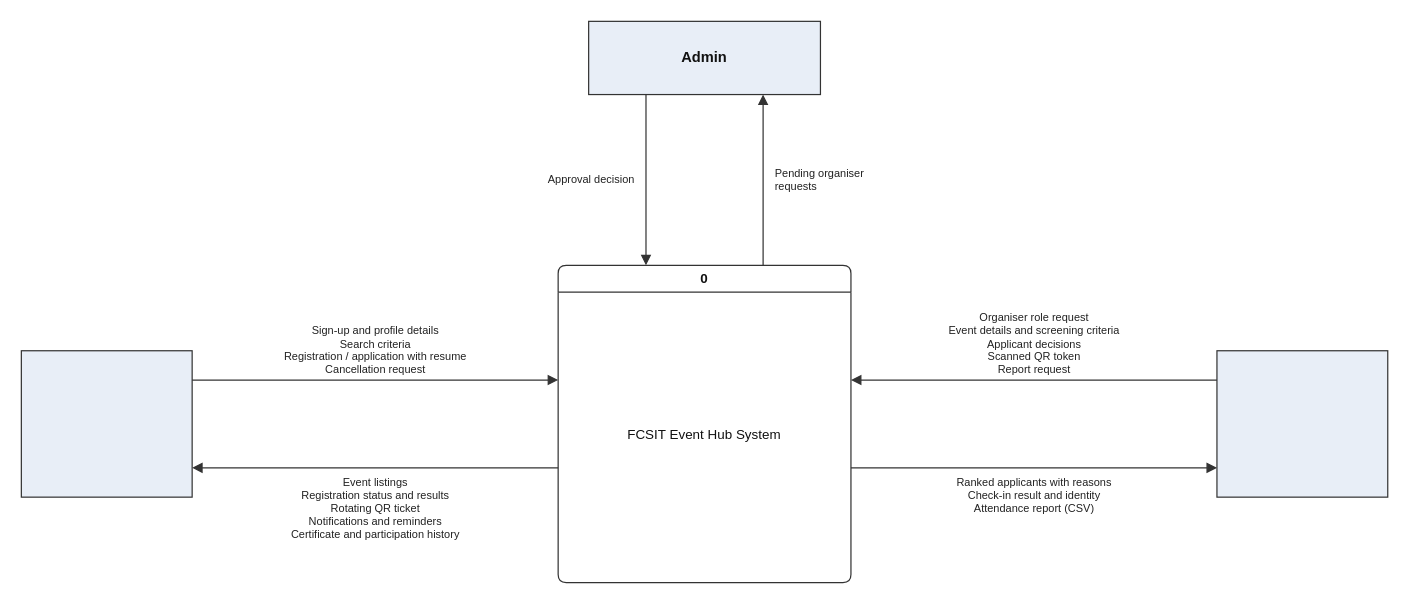
The diagram is 1409 pixels wide and 604 high, and some of its shapes have lost their labels. The shapes that lost their labels are listed below. From the top down, each one's centre as x and y in pixels, then its label:
At point (106, 423): "Student".
At point (1302, 423): "Organiser".
